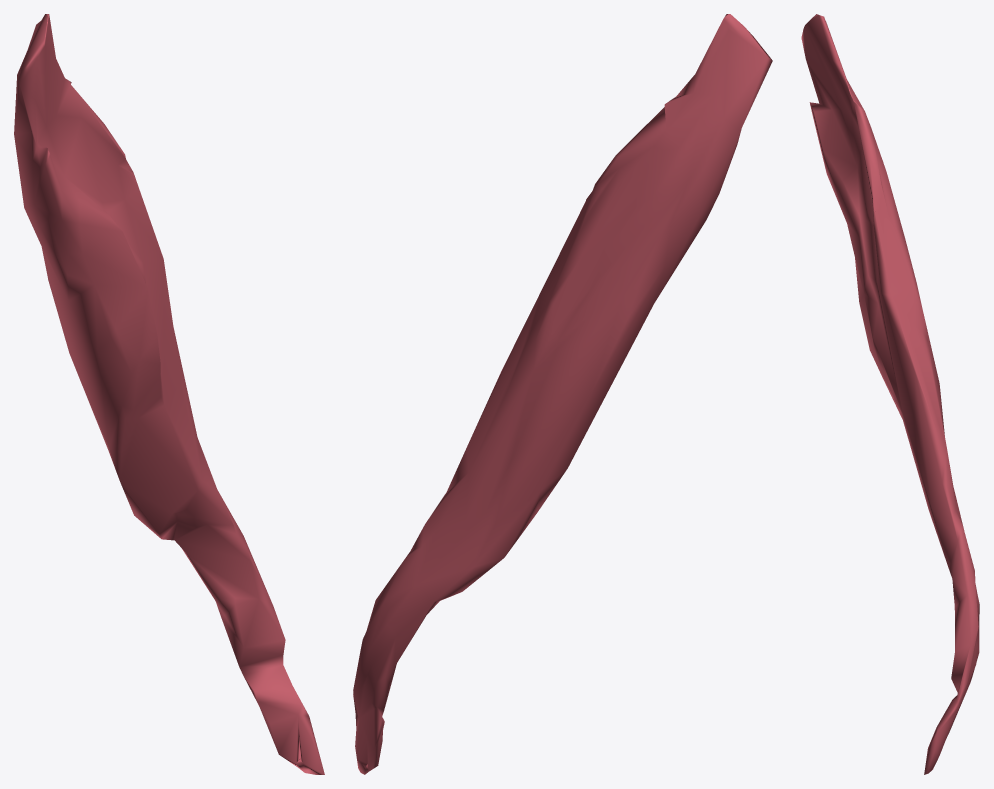
3 views of the same model, side by side, from view 1: azimuth 30°, elevation 25°; view 2: azimuth 150°, elevation 25°; view 3: azimuth 270°, elevation 25° (orthographic). The views are drawn at different scales.
Parts seen in each view (by area): view 1: 左侧小趾短屈肌; view 2: 左侧小趾短屈肌; view 3: 左侧小趾短屈肌.
Part boxes in pixels (x1,y1,x2,y2): 左侧小趾短屈肌: (14, 14, 324, 774); 左侧小趾短屈肌: (353, 14, 772, 774); 左侧小趾短屈肌: (801, 14, 979, 774).
Bounding box in the file's own units: 0.0487 × 0.1072 × 0.0271.
